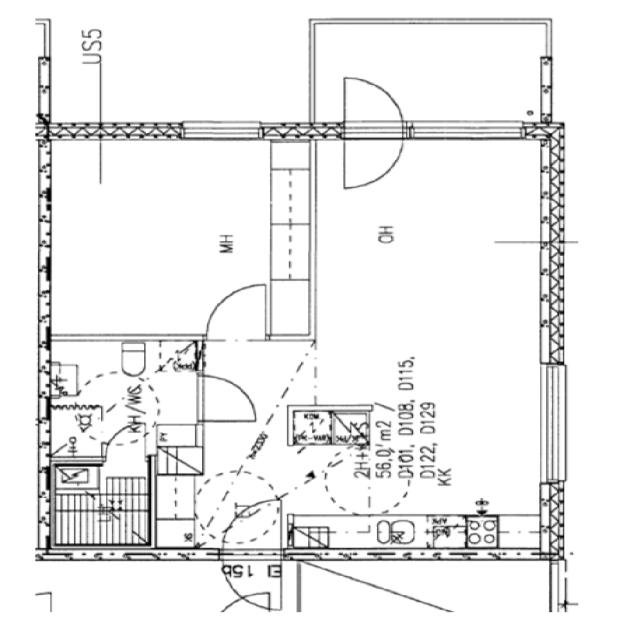door: (336, 72, 406, 142), (201, 279, 270, 344), (337, 134, 406, 193), (194, 369, 258, 426), (102, 424, 150, 468)
window: (536, 364, 574, 488), (406, 116, 531, 146), (180, 114, 268, 144), (537, 54, 558, 116), (219, 547, 284, 563), (34, 52, 55, 97)
zone: (303, 118, 538, 432), (42, 136, 296, 340), (42, 336, 204, 444), (44, 459, 152, 542), (224, 497, 285, 554), (44, 407, 104, 462)
